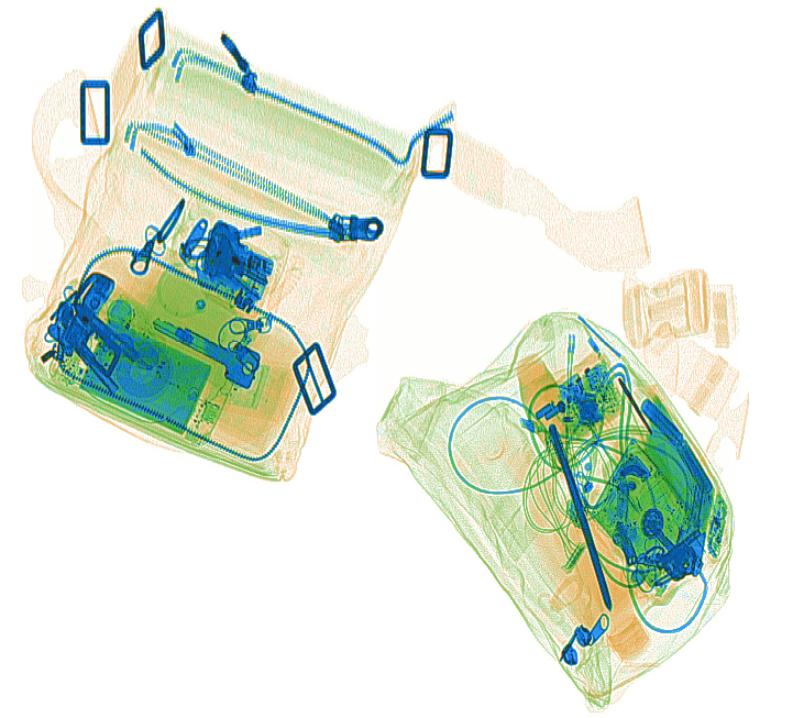battery: (639, 396, 715, 498)
